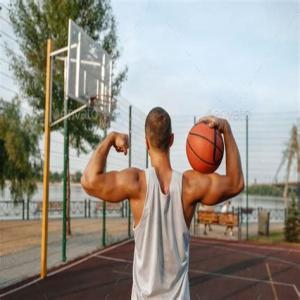Basket: (185, 121, 224, 175)
